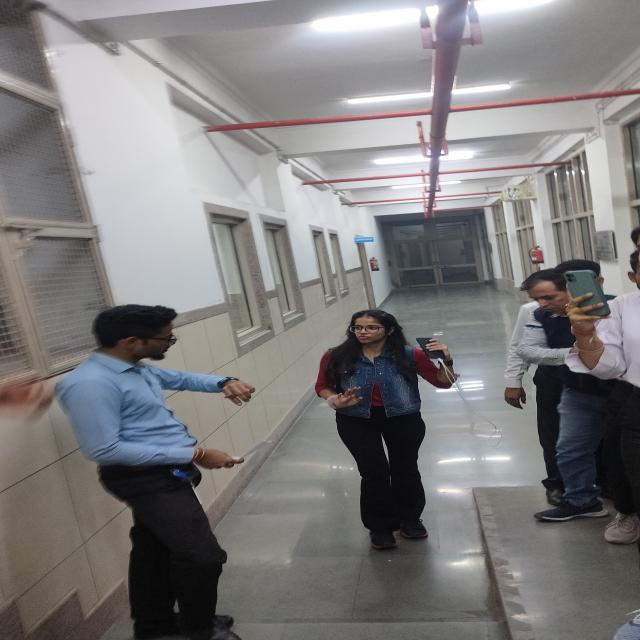unsafe: (62, 300, 253, 640), (303, 310, 455, 544), (519, 274, 623, 514)
